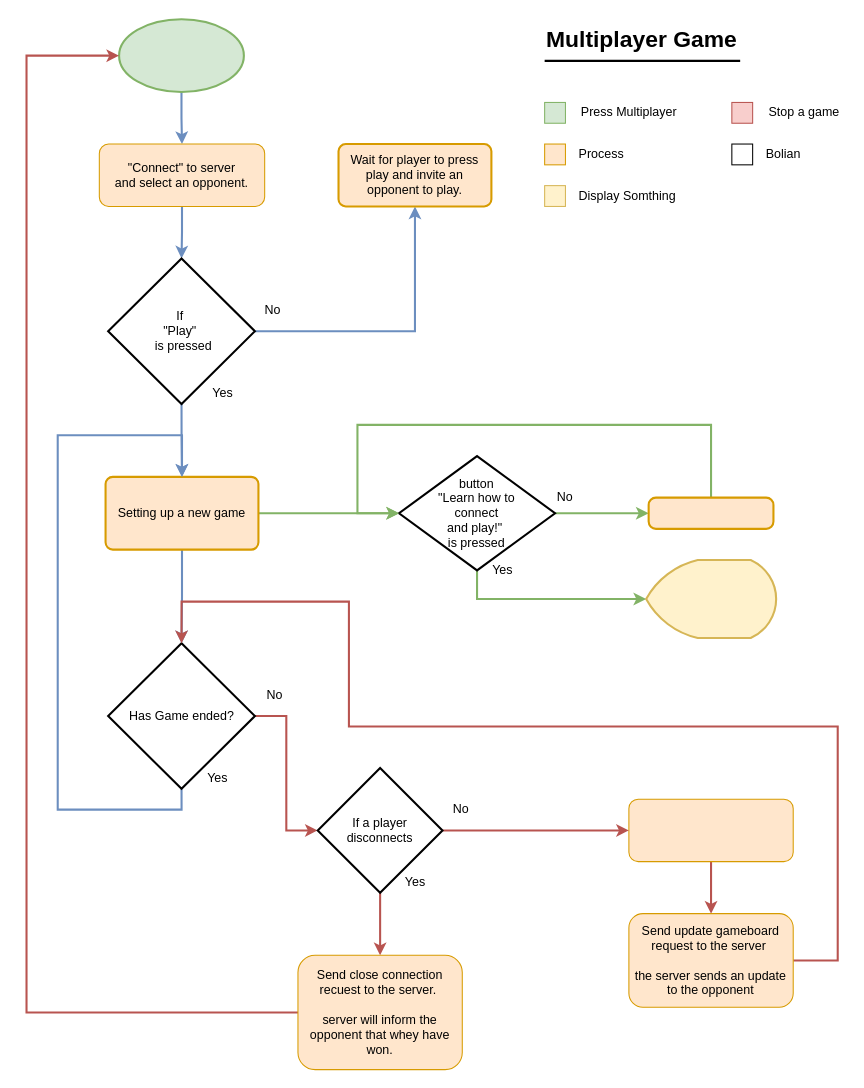
This 864x1088 diagram has some shape labels left out. The centre of each missing label's shape, as x and y in pixels:
"A player takes his/hers turn" belongs at (710,830).
"Nothing happens" belongs at (710,512).
"Select Singelplayer GAME" belongs at (181,55).
"Show game ruels & how to play" belongs at (711,598).
